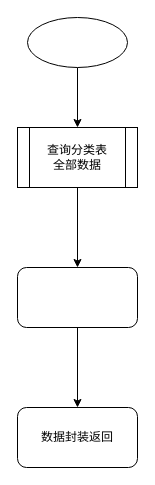
Image size: 155x485. Some labels were removed from this diagram. The shapes that lost their labels are listed below. From the top down, each one's centre as x and y in pixels, then its label:
At pixel 77 42: "标签分类查询".
At pixel 77 297: "标签分类进行四级分类，拆分".
